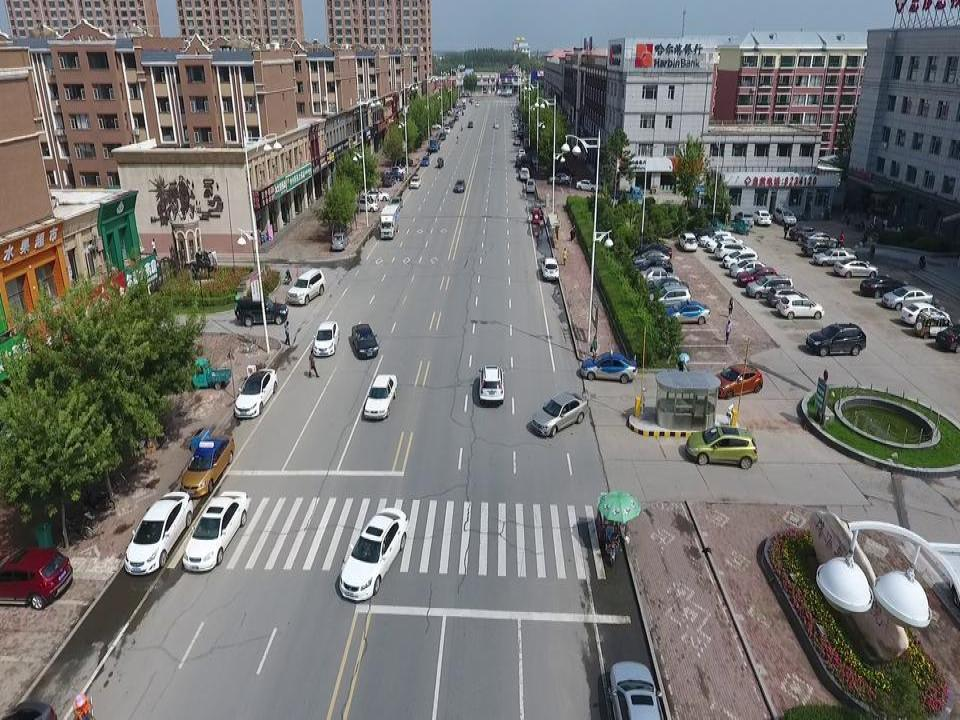car: (338, 508, 410, 600), (123, 491, 194, 576), (182, 491, 249, 572), (0, 545, 73, 611), (180, 434, 235, 498), (606, 661, 663, 720), (685, 425, 758, 468), (531, 392, 587, 437), (233, 368, 277, 419), (709, 361, 764, 400), (804, 323, 867, 356), (579, 349, 638, 384), (234, 297, 288, 327), (363, 373, 397, 419), (286, 268, 325, 304), (882, 285, 934, 311), (660, 299, 711, 324), (746, 274, 794, 298), (642, 276, 688, 301), (477, 365, 506, 404), (779, 296, 825, 320), (859, 276, 909, 297), (350, 324, 379, 360), (832, 257, 879, 279), (637, 266, 680, 290), (765, 285, 809, 308), (644, 287, 690, 309), (312, 322, 340, 358), (812, 248, 857, 268), (900, 303, 942, 324), (634, 257, 672, 280), (633, 249, 670, 271), (935, 322, 960, 354), (632, 242, 672, 262), (804, 229, 838, 252), (738, 266, 776, 286), (706, 236, 744, 255), (723, 250, 759, 270), (729, 259, 768, 277), (716, 243, 754, 261), (802, 240, 836, 257), (700, 230, 733, 246), (791, 224, 820, 240), (772, 207, 797, 225), (541, 258, 559, 282), (751, 208, 772, 228), (693, 227, 722, 241), (677, 233, 697, 252), (352, 199, 380, 212), (362, 188, 389, 201), (734, 209, 753, 227), (331, 232, 349, 251), (548, 172, 569, 187), (575, 180, 600, 192), (392, 157, 413, 168), (388, 197, 403, 211), (385, 167, 405, 177), (383, 173, 396, 187), (518, 165, 529, 180), (385, 172, 403, 181), (454, 179, 466, 192), (408, 176, 421, 188), (421, 156, 430, 167)
truck: (380, 204, 399, 240)
van: (913, 308, 954, 337), (605, 185, 644, 204), (526, 177, 535, 192)
